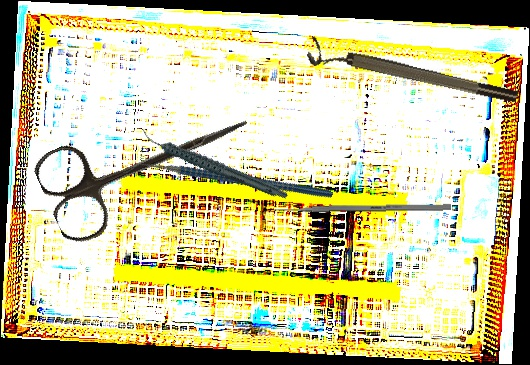Chopper: (122, 100, 334, 265)
Fixation Ring: (305, 36, 519, 115)
Handpiece: (138, 102, 290, 227)
Iris Scissors: (29, 73, 265, 250)
Pusher: (263, 203, 452, 214)
